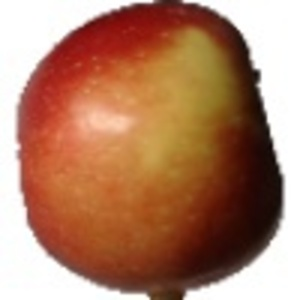maçã braeburn: (10, 2, 291, 292)
